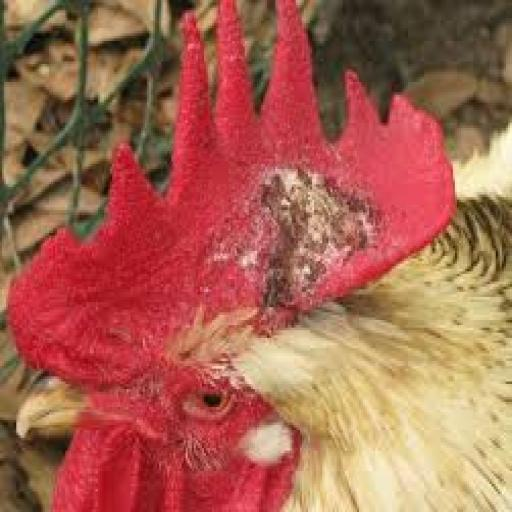disease: (217, 146, 395, 318)
